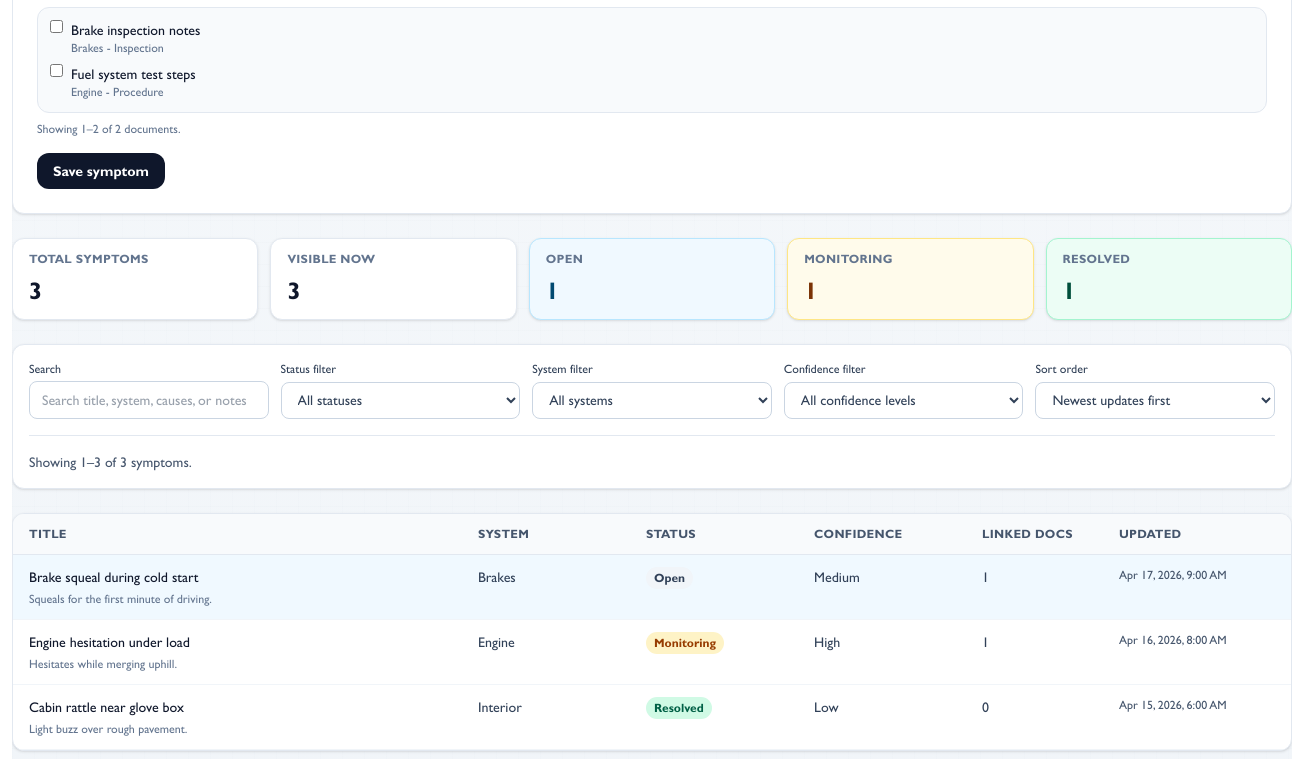
Scenario: SymptomsPage helps narrow to active and high-confidence symptoms, then clear filters
This screenshot has width=1304, height=759.
(page scrolled)
Expected: the text "Showing 1–3 of 3 symptoms." is shown, [29, 452, 192, 472]
Select "Active only" in the dropdown labelled "Status filter" at [400, 400], box [281, 382, 520, 419]
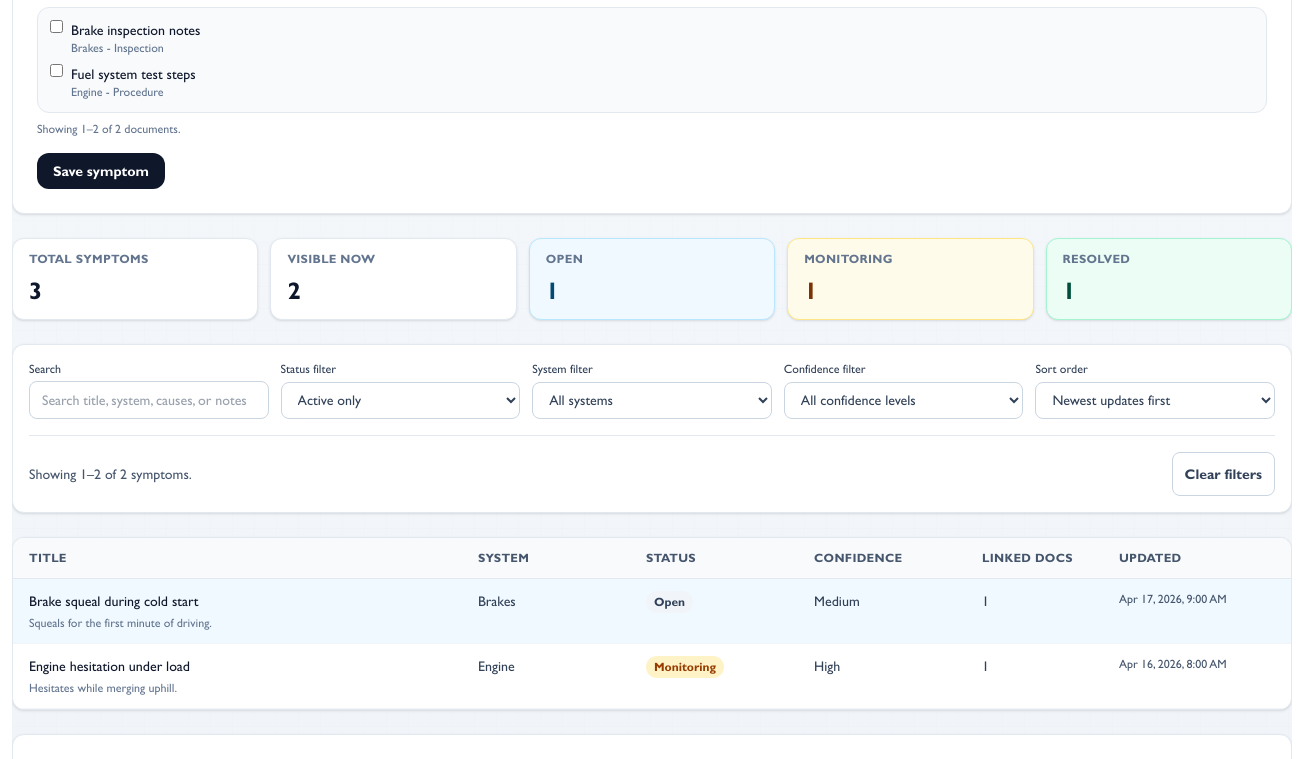
Now the text "Showing 1–2 of 2 symptoms." is shown, box [29, 464, 192, 484]
Select "High" in the dropdown labelled "Confidence filter" at [904, 400], box [784, 382, 1023, 419]
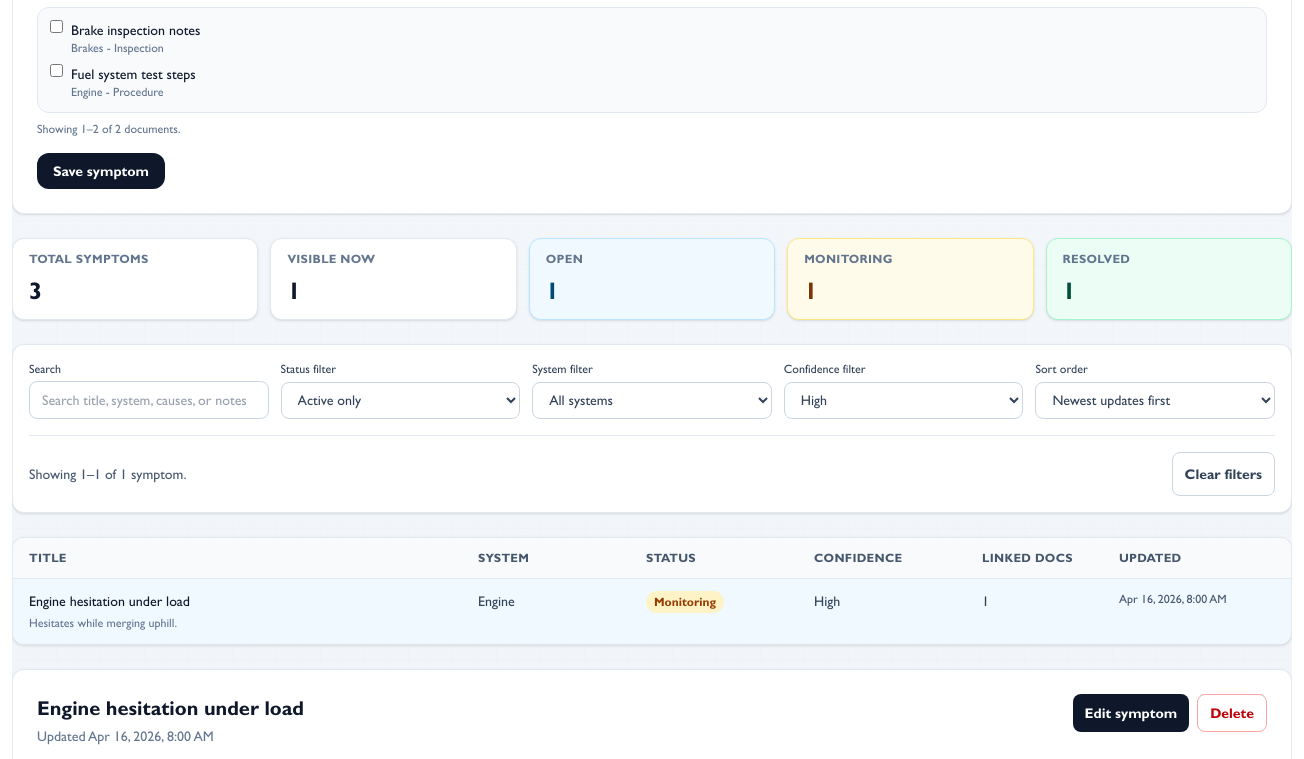
Now the text "Showing 1–1 of 1 symptom." is shown, box [29, 464, 186, 484]
Click the button "Clear filters" at [1223, 474], box [1172, 452, 1275, 496]
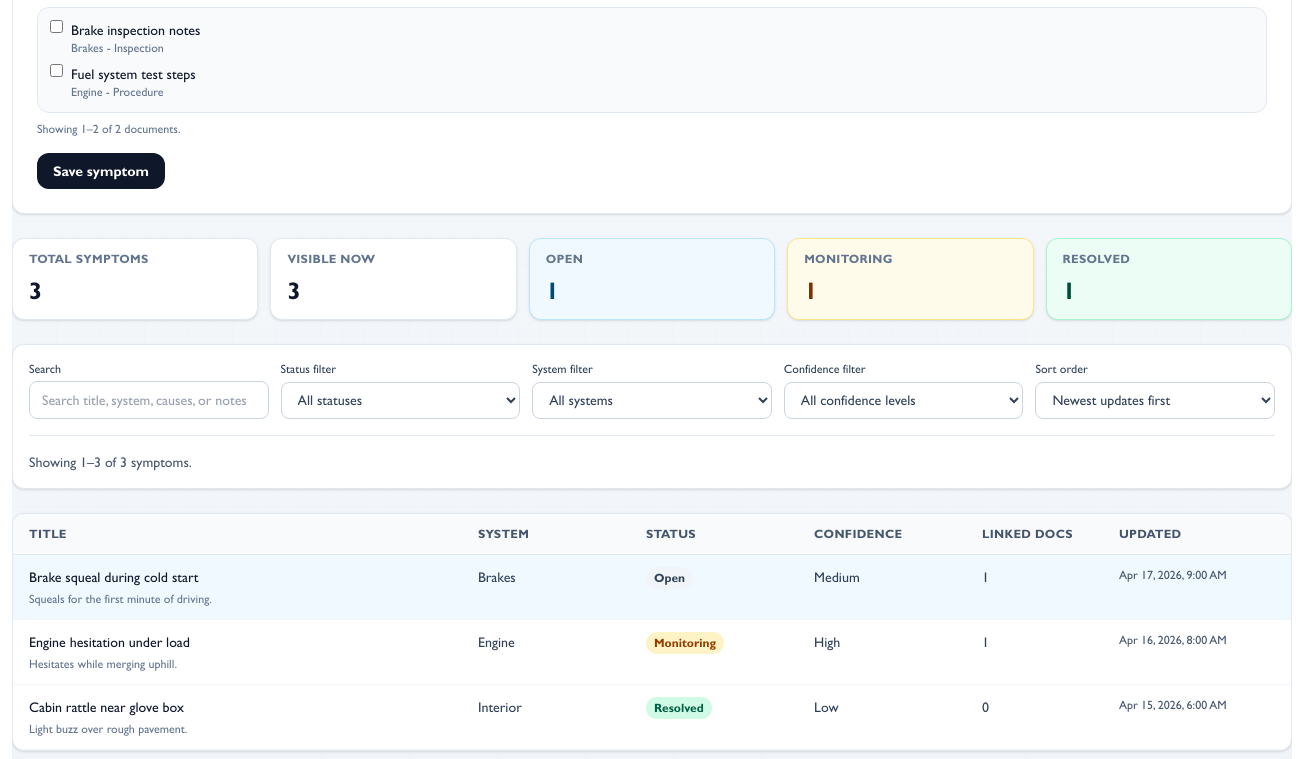
Now the text "Showing 1–3 of 3 symptoms." is shown, box [29, 452, 192, 472]
